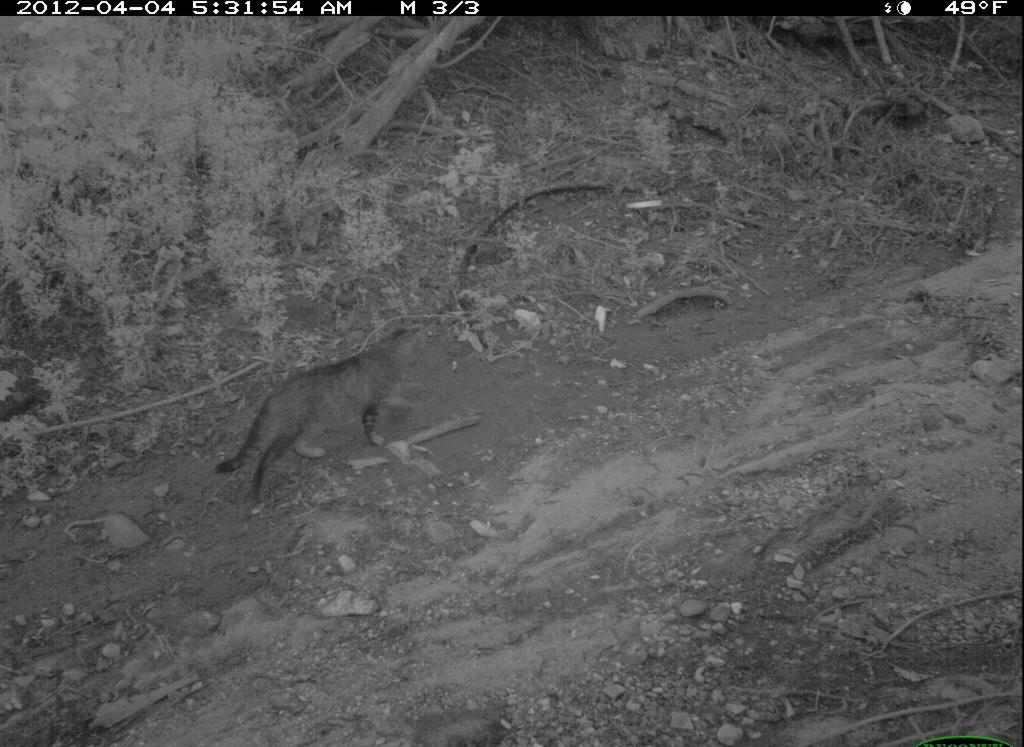cat: (208, 323, 438, 509)
